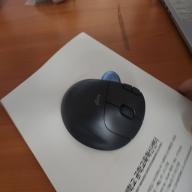mouse: (61, 71, 146, 151)
